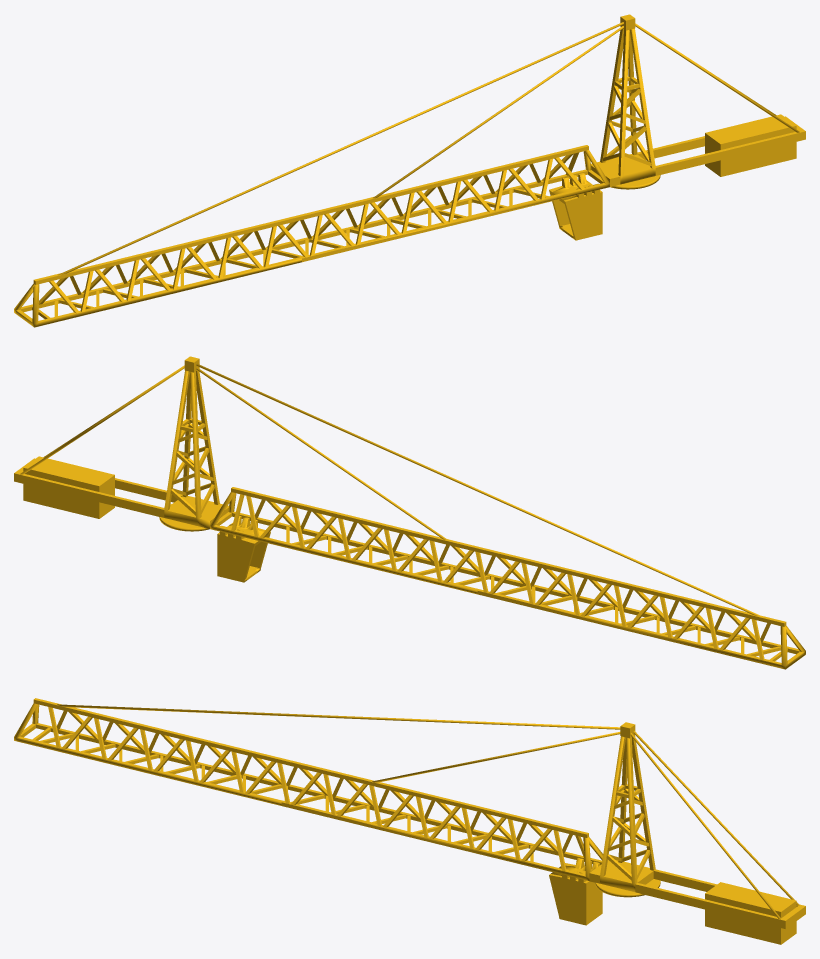
Rendered from oben4.obj.
The picture shows the model from 3 angles, top to bottom: view 1: azimuth 30°, elevation 25°; view 2: azimuth 150°, elevation 25°; view 3: azimuth 330°, elevation 25°; orthographic projection.
Visible parts, largest first — view 1: Würfel.1_ID9.005; view 2: Würfel.1_ID9.005; view 3: Würfel.1_ID9.005.
Part boxes in pixels (x1,y1,x2,y2): Würfel.1_ID9.005: (14,14,805,327); Würfel.1_ID9.005: (14,356,805,669); Würfel.1_ID9.005: (14,698,805,944).
Bounding box in the file's own units: 1.64 × 0.4102 × 0.12.
Materials: 1 (1 with a texture image).
